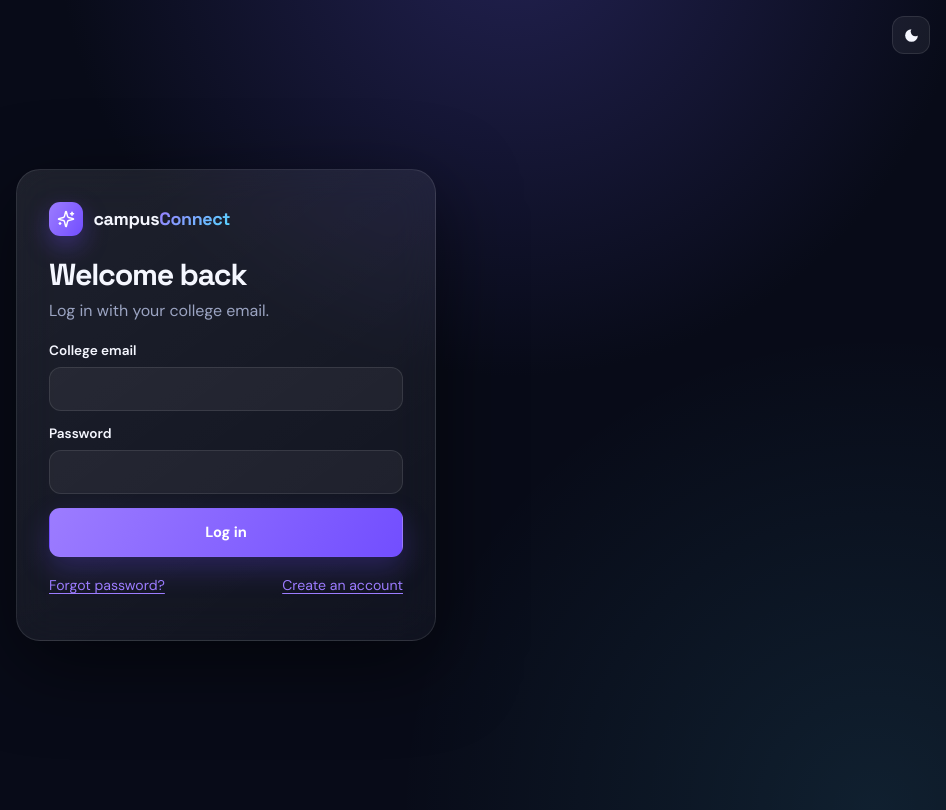
auth pages › offers to resend the verification email for unverified accounts
Step 1. Type "a@college.edu" into the field labelled "College email" → {"x": 226, "y": 389}, box [49,367,403,410]
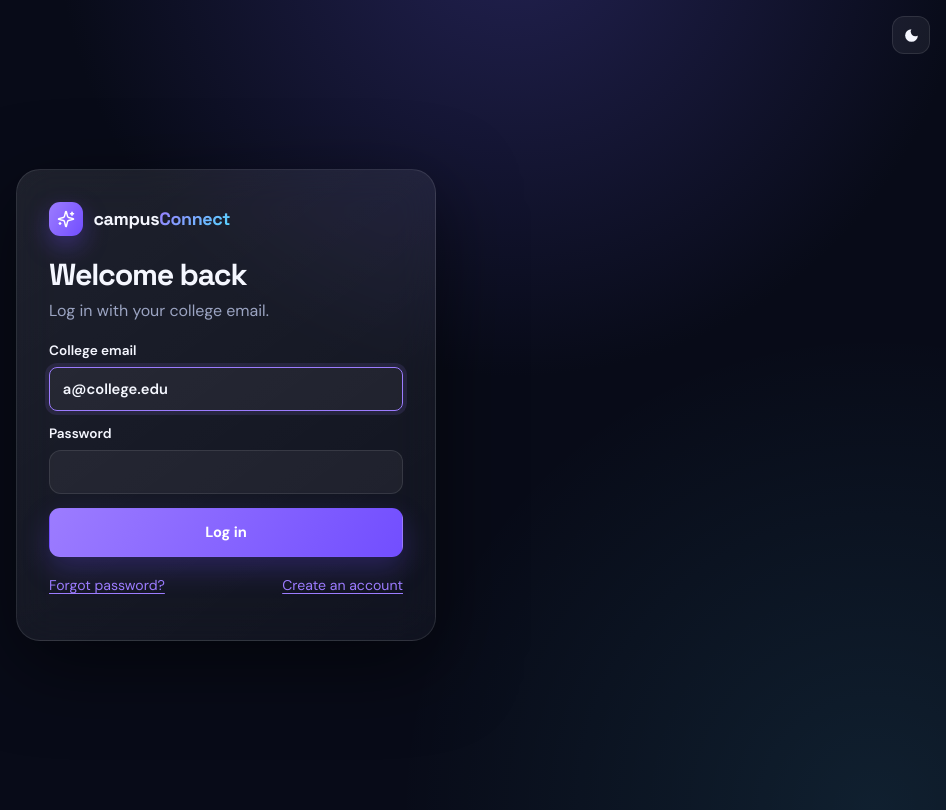
Step 2. Type "correct-horse-battery" into the password field labelled "Password" → {"x": 226, "y": 472}, box [49,450,403,494]
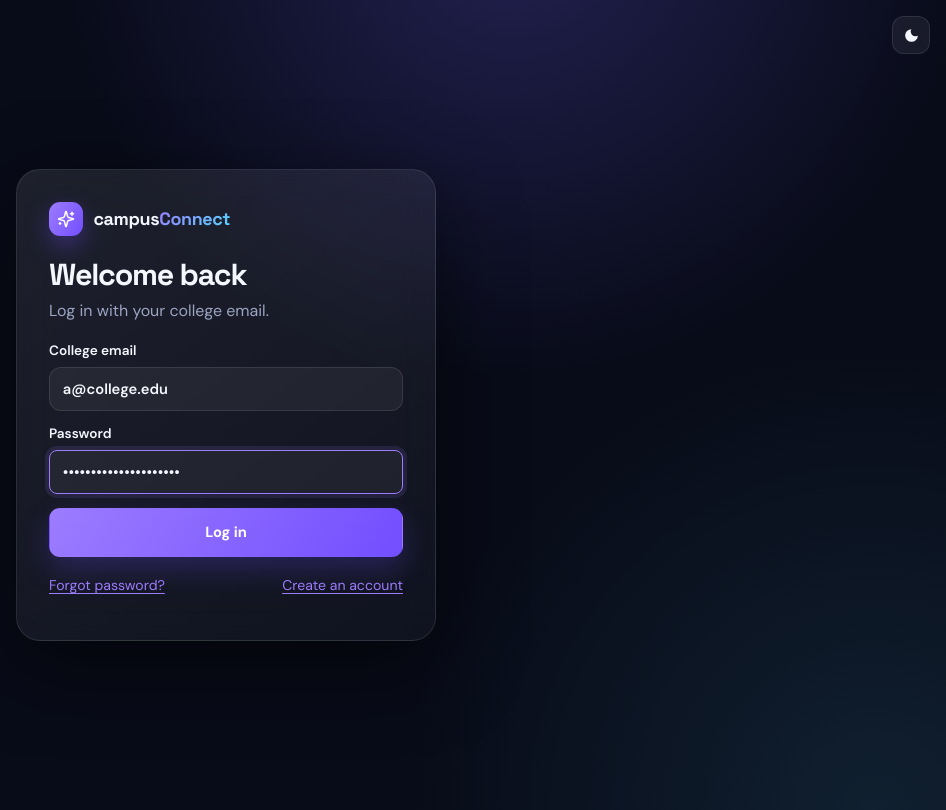
Step 3. Click the button "Log in" → {"x": 226, "y": 532}, box [49,508,403,557]
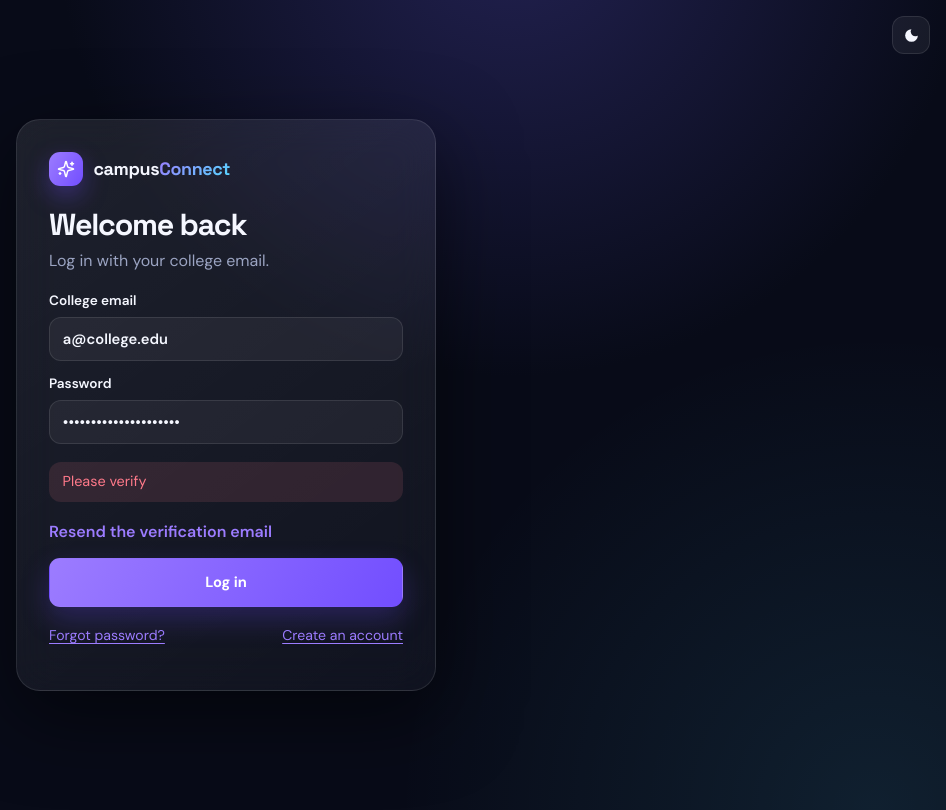
Step 4. Click the button "Resend the verification email" → {"x": 226, "y": 532}, box [49,520,403,544]
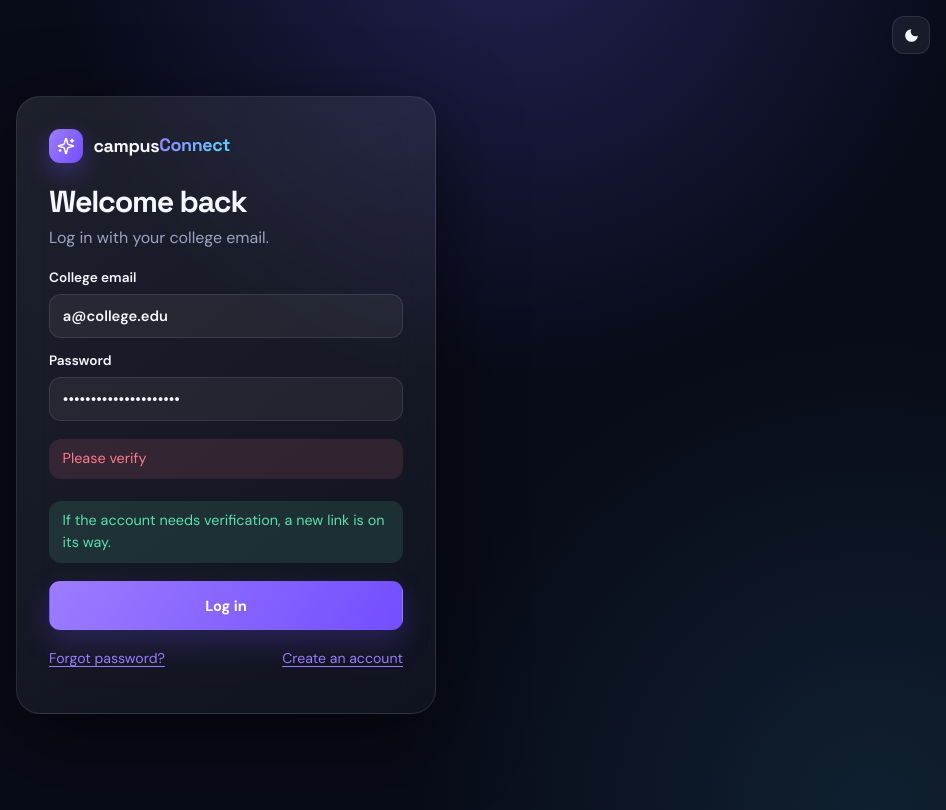
Check: the text "If the account needs verification, a new link is on its way." is shown, box [49,501,403,563]
